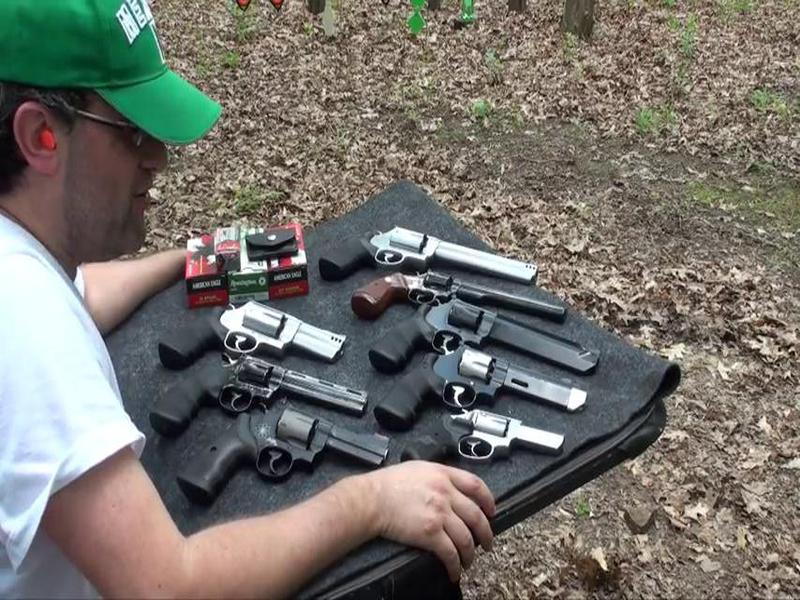Revolver: (141, 340, 367, 443)
